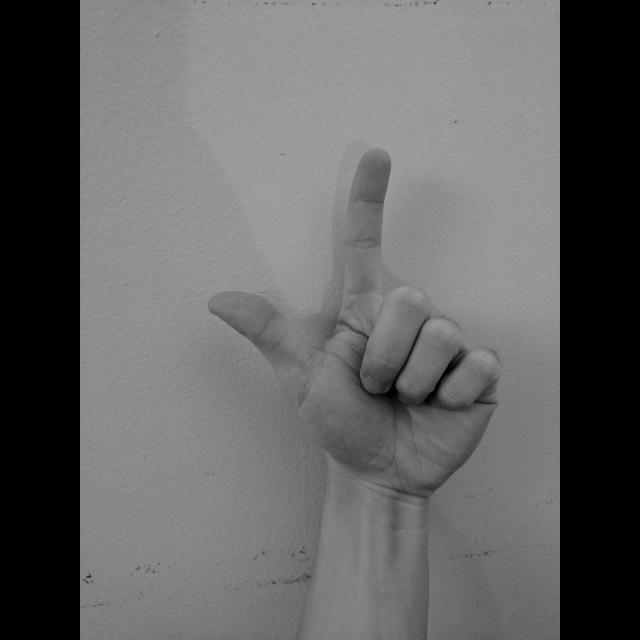L: (203, 143, 512, 504)
